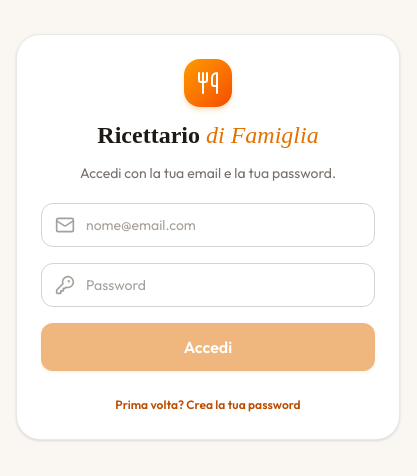
Test: Accesso al ricettario › se la registrazione non apre la sessione lo dice invece di restare fermo
The image size is (417, 476).
Step 1. Click the button "Prima volta? Crea la tua password" → point(208, 405), box [41, 397, 375, 413]
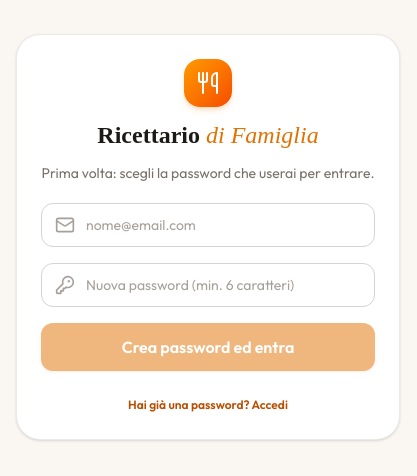
Step 2. Type "lluparello3@gmail.com" into the field labelled "email" → point(208, 225), box [41, 203, 375, 247]
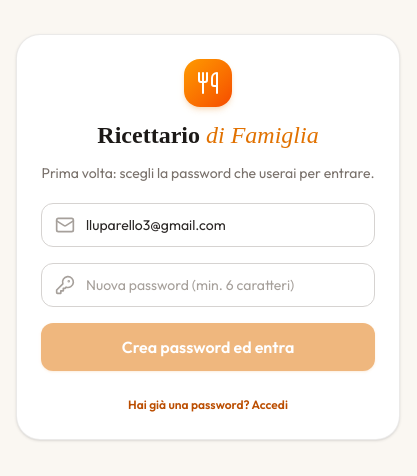
Step 3. Type "segreta123" into the password field labelled "password" → point(208, 285), box [41, 263, 375, 307]
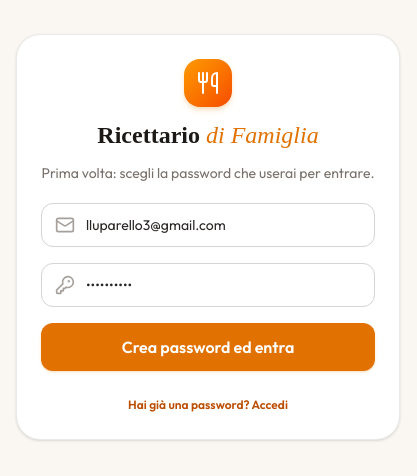
Step 4. Submit the form named "Email", box [41, 203, 375, 371]
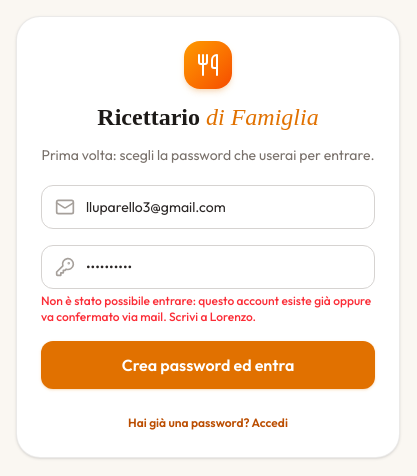
Expected: the text "account esiste già oppure va confermato" is shown, [41, 293, 371, 324]
